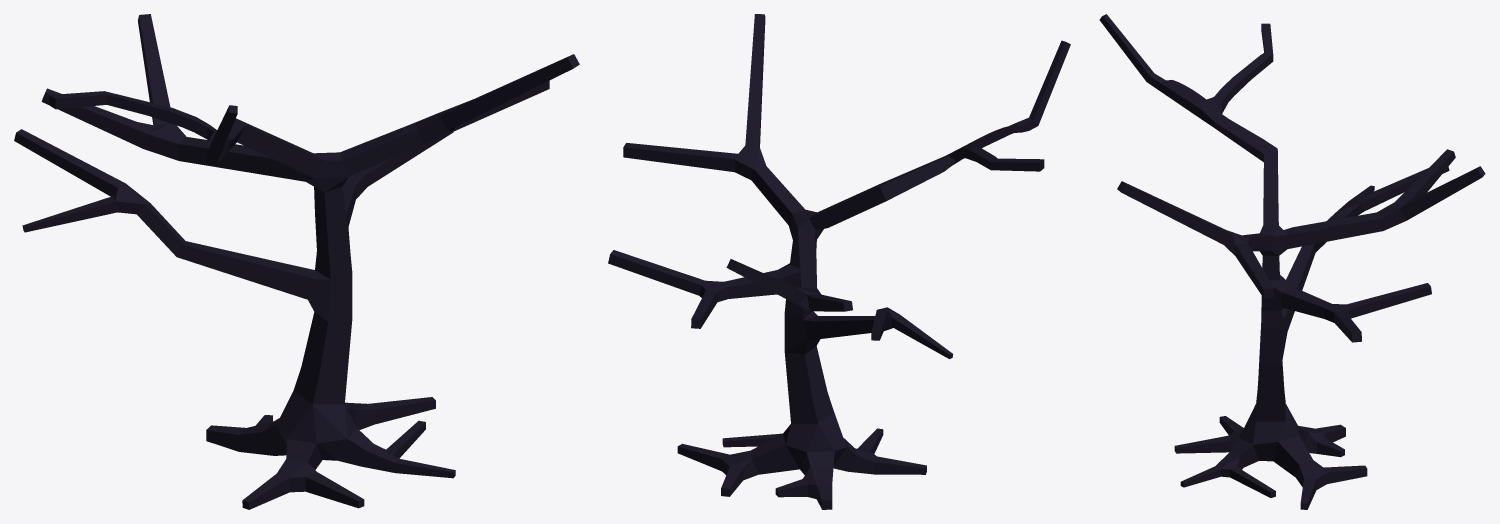
The model's file is Tree_Dead_02.fbx.
3 views of the same model, side by side, from view 1: azimuth 30°, elevation 25°; view 2: azimuth 150°, elevation 25°; view 3: azimuth 270°, elevation 25° (orthographic). The views are drawn at different scales.
Visible parts, largest first — view 1: Tree_Dead_02; view 2: Tree_Dead_02; view 3: Tree_Dead_02.
Boxes of the visible parts, <box> form: Tree_Dead_02: <box>14,14,579,509</box>; Tree_Dead_02: <box>608,14,1070,509</box>; Tree_Dead_02: <box>1099,14,1485,509</box>.
Bounding box in the file's own units: 452 × 420 × 392.
